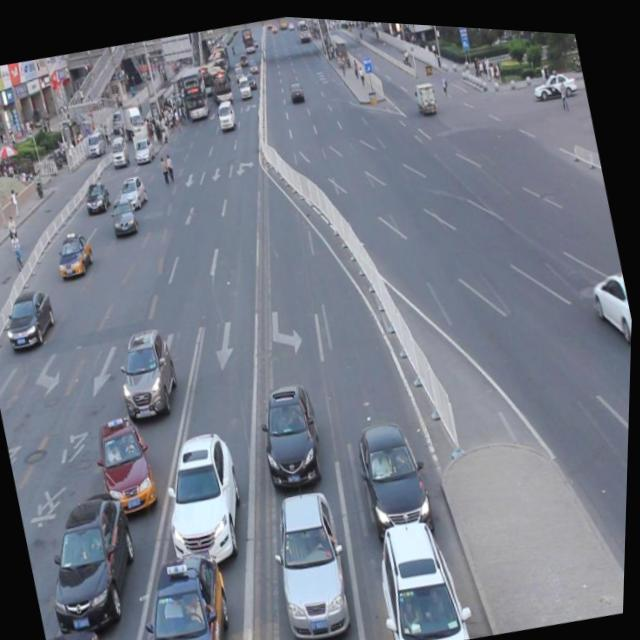car: (33, 479, 155, 640), (261, 475, 362, 640), (150, 418, 258, 569), (368, 500, 478, 640), (122, 533, 250, 640), (350, 403, 441, 538), (251, 369, 333, 488), (91, 405, 165, 517), (109, 316, 187, 421), (0, 283, 63, 353), (587, 262, 635, 340), (52, 227, 99, 281), (47, 615, 120, 640), (109, 192, 143, 238), (116, 171, 151, 212), (82, 176, 113, 213)
